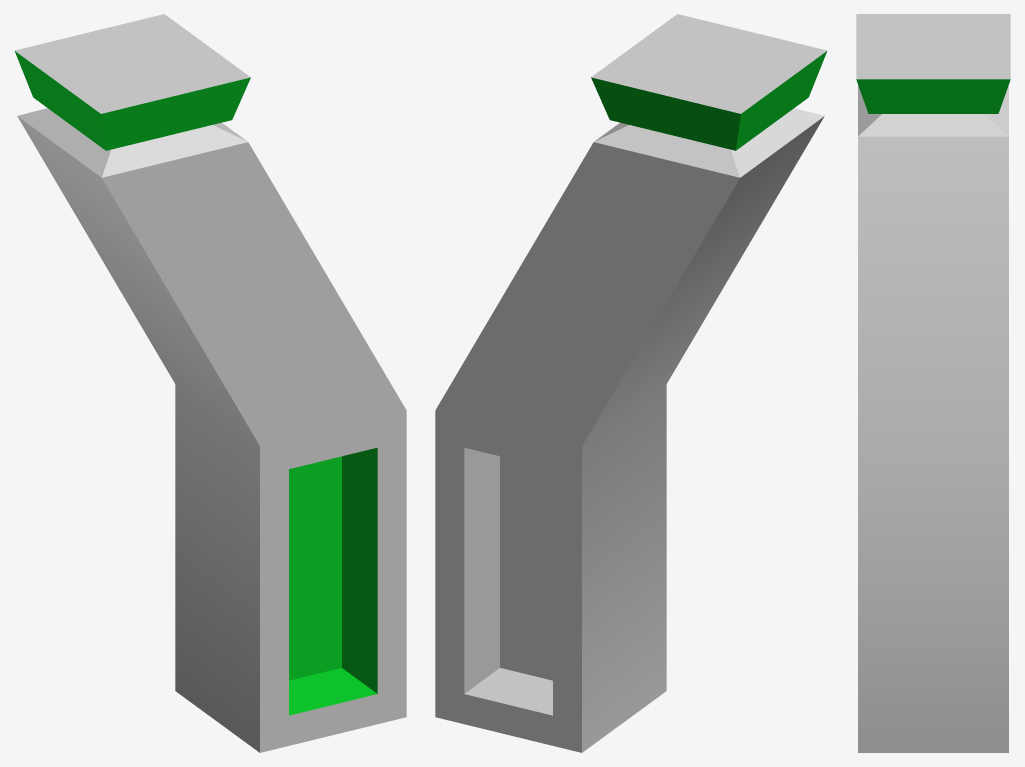
File: SM Pillar.fbx
3 views of the same model, side by side, from view 1: azimuth 30°, elevation 25°; view 2: azimuth 150°, elevation 25°; view 3: azimuth 270°, elevation 25° (orthographic). The views are drawn at different scales.
Visible parts, largest first — view 1: SM Pillar; view 2: SM Pillar; view 3: SM Pillar.
Boxes of the visible parts, box(x1,y1,x2,y2) form: SM Pillar: box(14, 14, 406, 752); SM Pillar: box(435, 14, 827, 752); SM Pillar: box(856, 14, 1010, 752).
Size of the model in its own units: 2.09 by 4.42 by 1.02.
